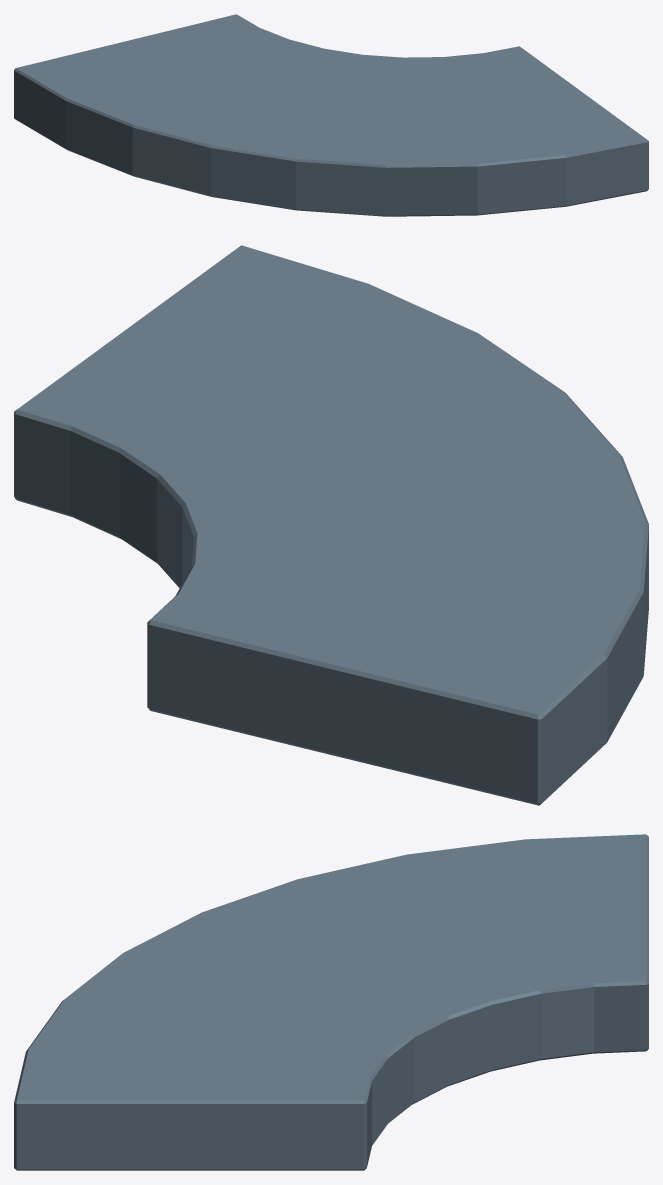
Rendered from P37_Quarter_Deck.fbx.
The picture shows the model from 3 angles, top to bottom: view 1: azimuth 30°, elevation 25°; view 2: azimuth 150°, elevation 25°; view 3: azimuth 270°, elevation 25°; orthographic projection. The views are drawn at different scales.
Parts seen in each view (by area): view 1: P37_Quarter_Deck; view 2: P37_Quarter_Deck; view 3: P37_Quarter_Deck.
Boxes of the visible parts, x1=… form: P37_Quarter_Deck: x1=14, y1=14, x2=648, y2=216; P37_Quarter_Deck: x1=14, y1=245, x2=648, y2=805; P37_Quarter_Deck: x1=14, y1=834, x2=648, y2=1170.
Size of the model in its own units: 1.8 by 0.22 by 1.8.
1 material, 1 textured.
